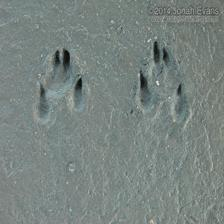rabbit: (130, 40, 195, 128), (29, 47, 87, 128)
